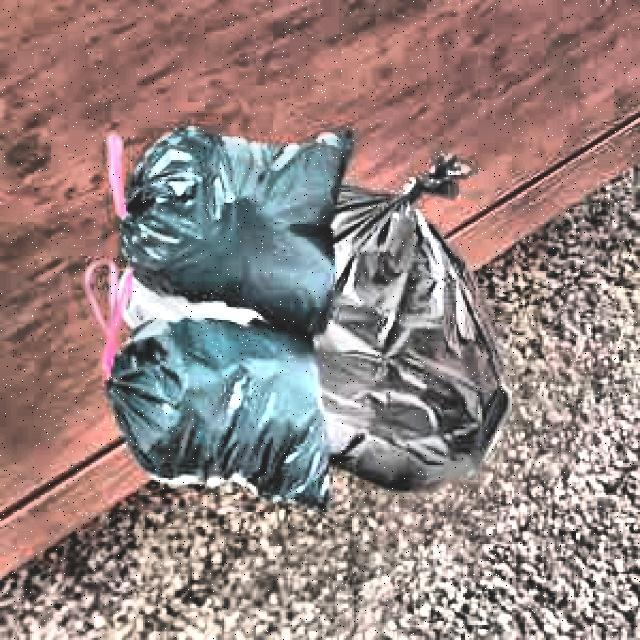Trashbag: (317, 187, 515, 491), (124, 114, 362, 321), (120, 309, 329, 506)
